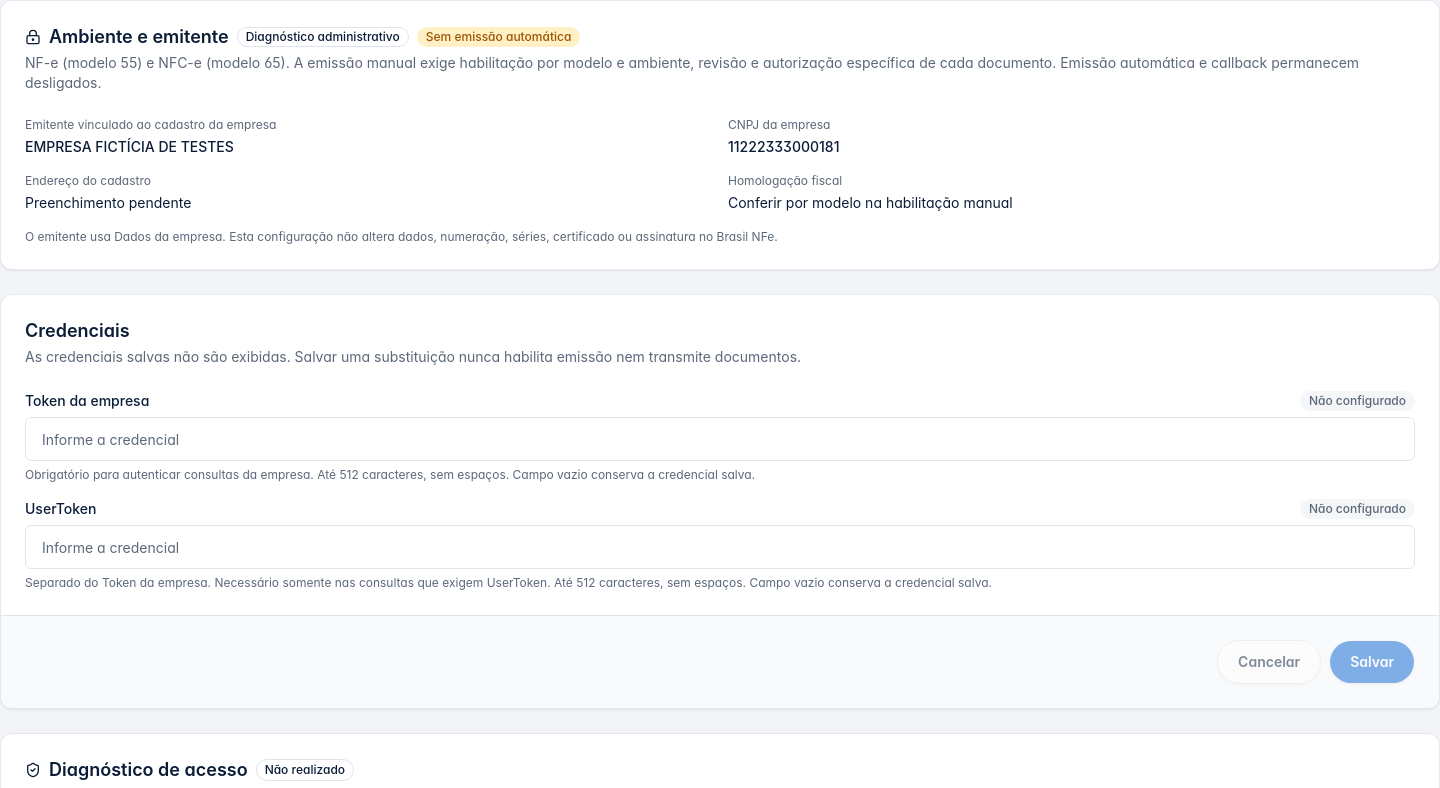
Test: preserva o rascunho em falhas e permite cancelar sem modificar a configuração
Type "substituicao-ficticia" into the password field labelled "UserToken" at (720, 547), box 25,525 -> 1415,569
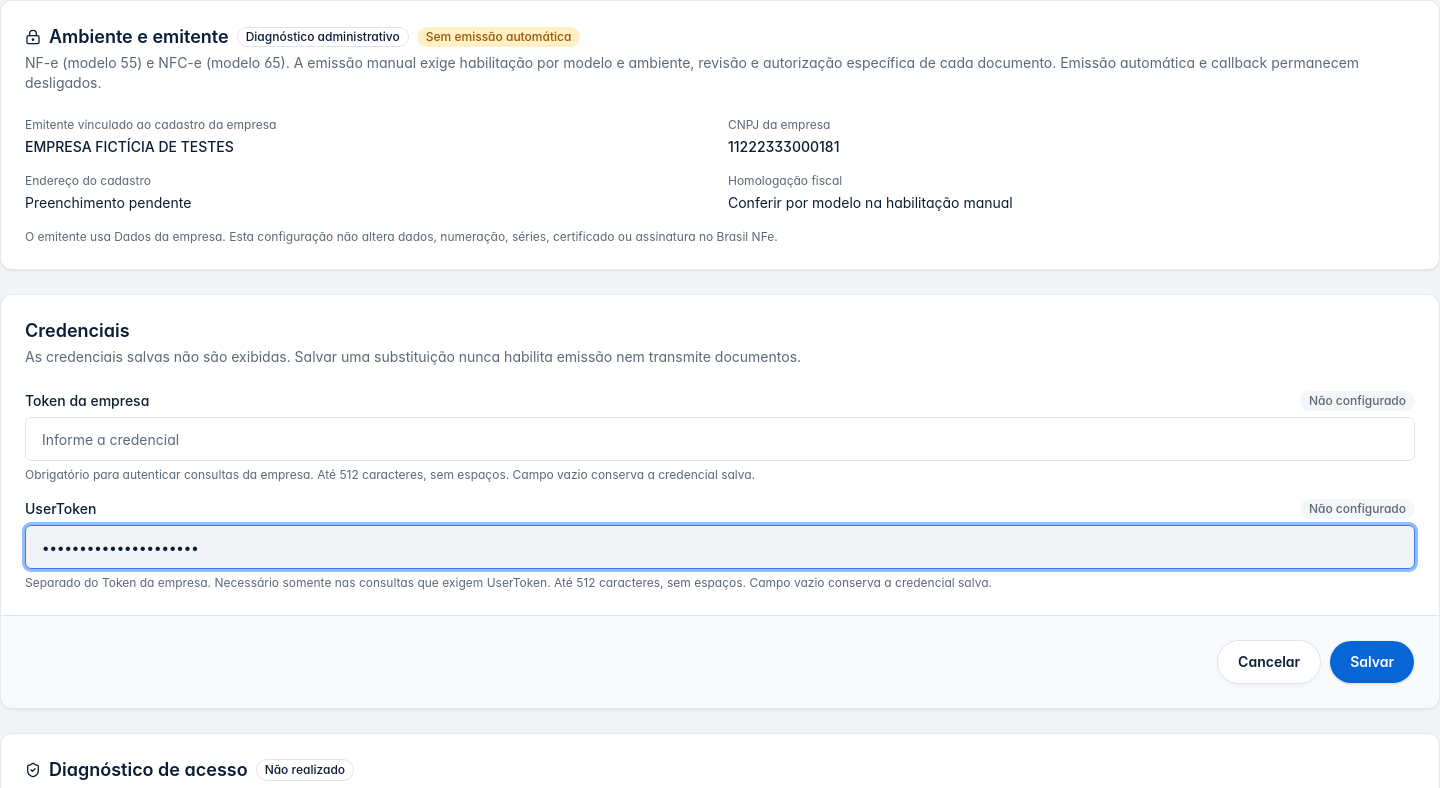
Click the button "Salvar" at (1372, 662), box 1329,640 -> 1415,684
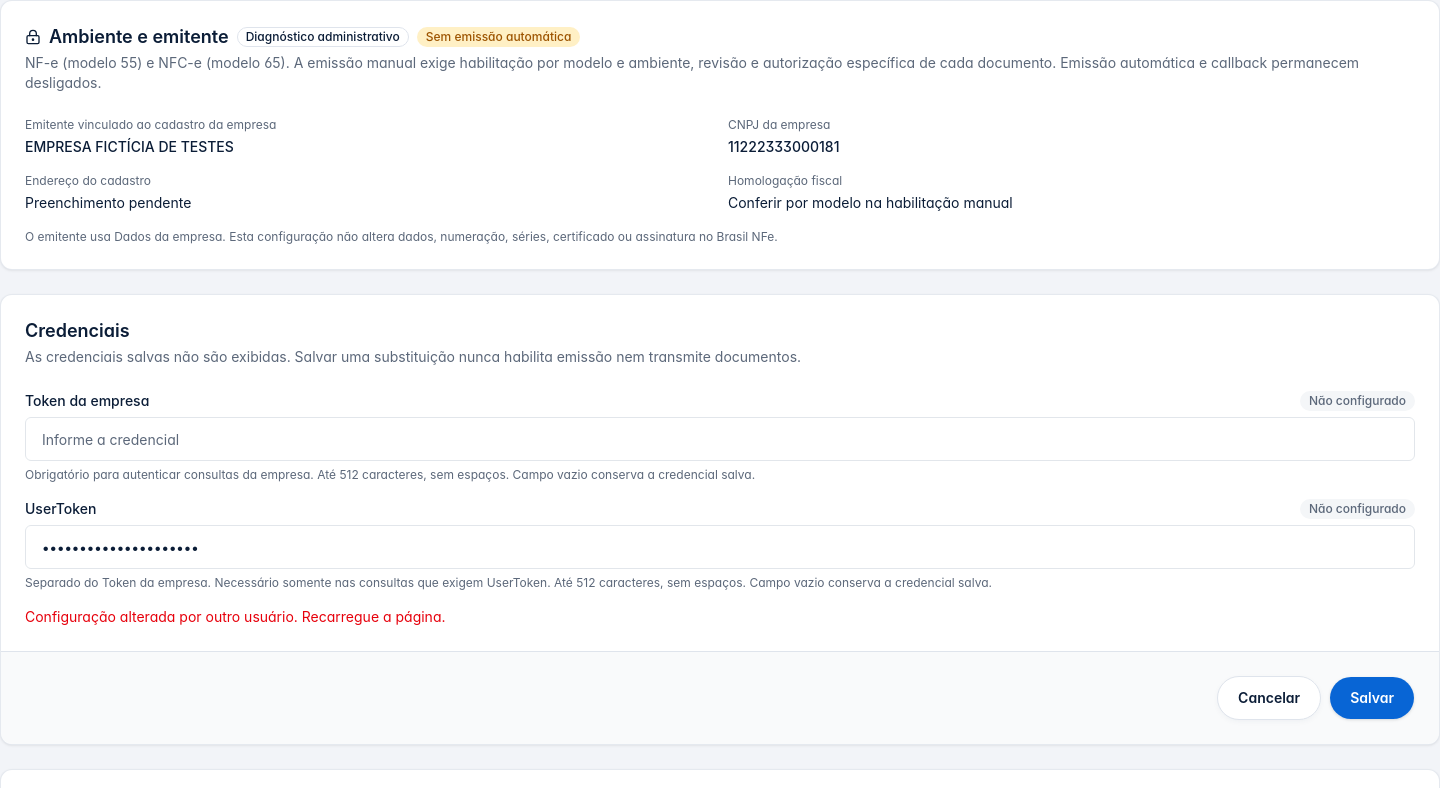
Check: the message reads "Configuração alterada por outro usuário. Recarregue a página.", box 25,608 -> 446,625
Click the button "Cancelar" at (1269, 698), box 1217,676 -> 1321,720
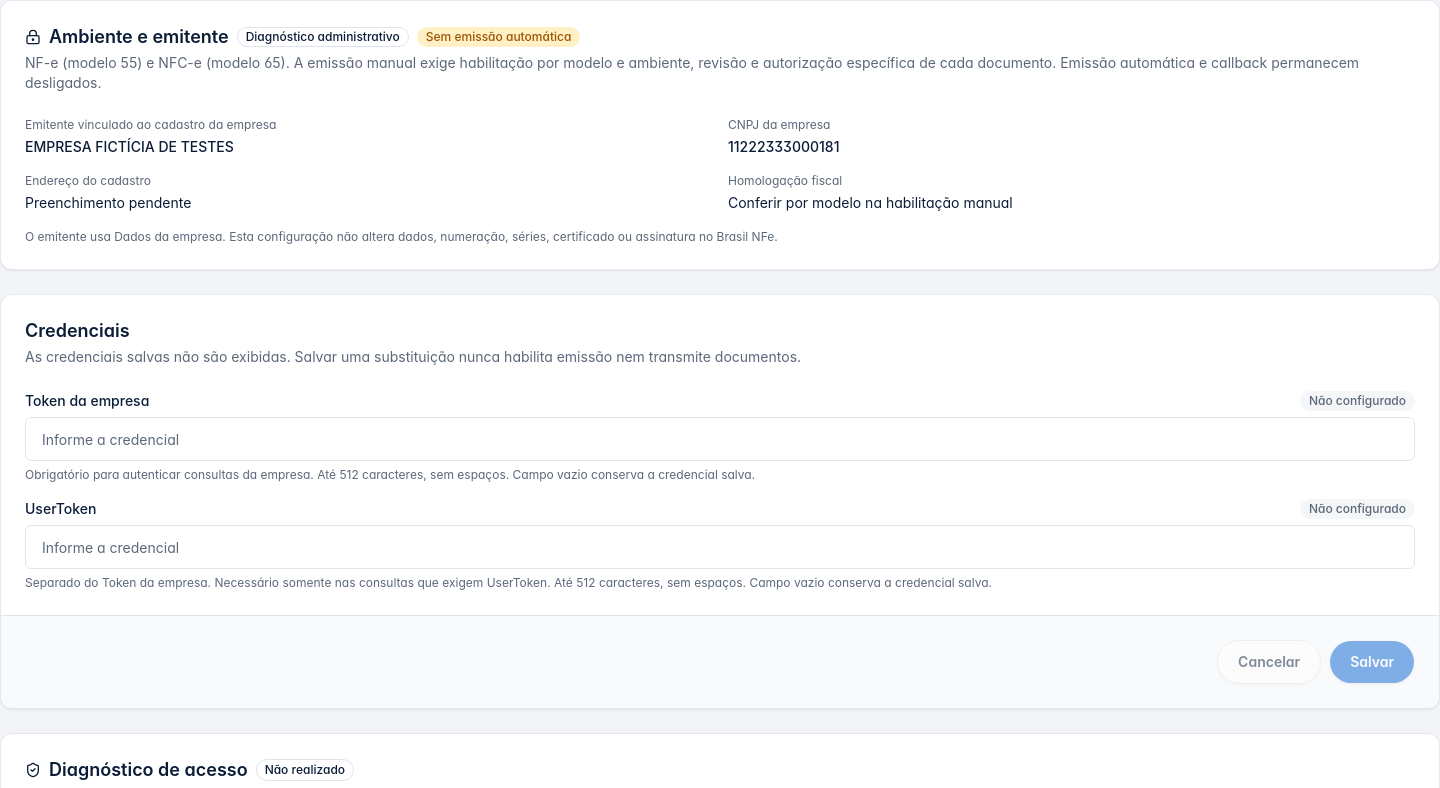
Check: the text "Sem emissão automática" is shown, box 417,27 -> 580,47
Check: the password field labelled "UserToken" is empty, box 25,525 -> 1415,569
